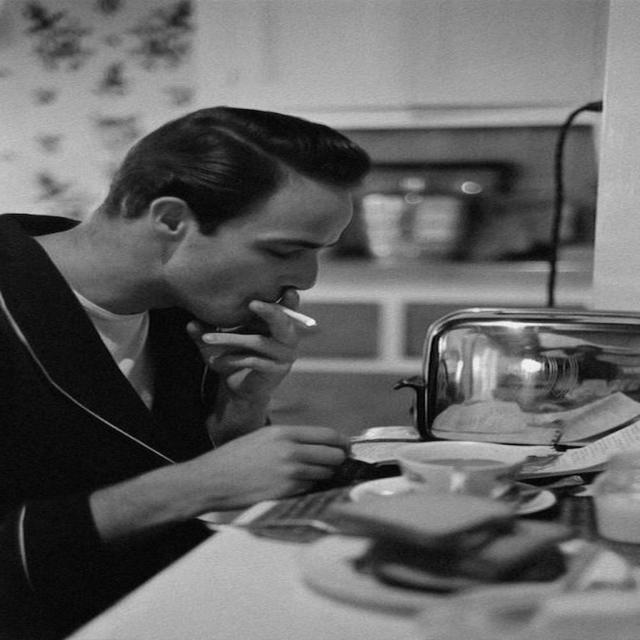smoking: (72, 97, 388, 365)
